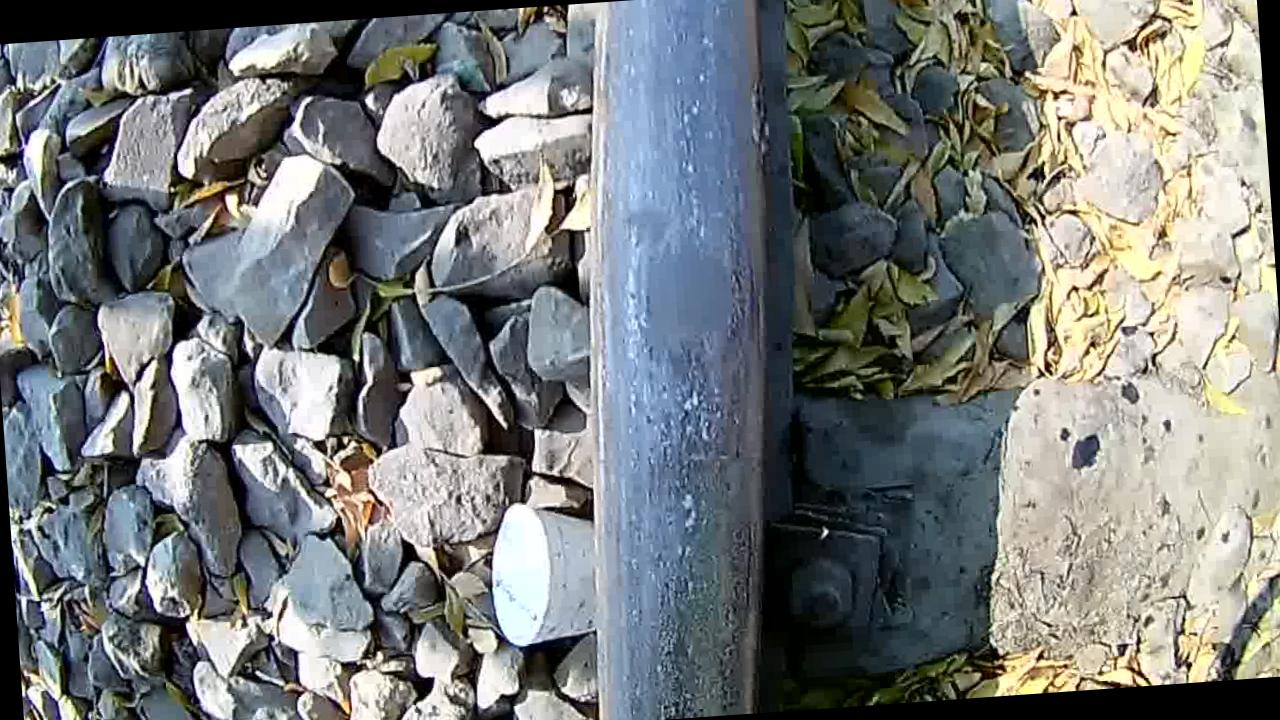bolt_missing: (597, 127, 803, 610)
